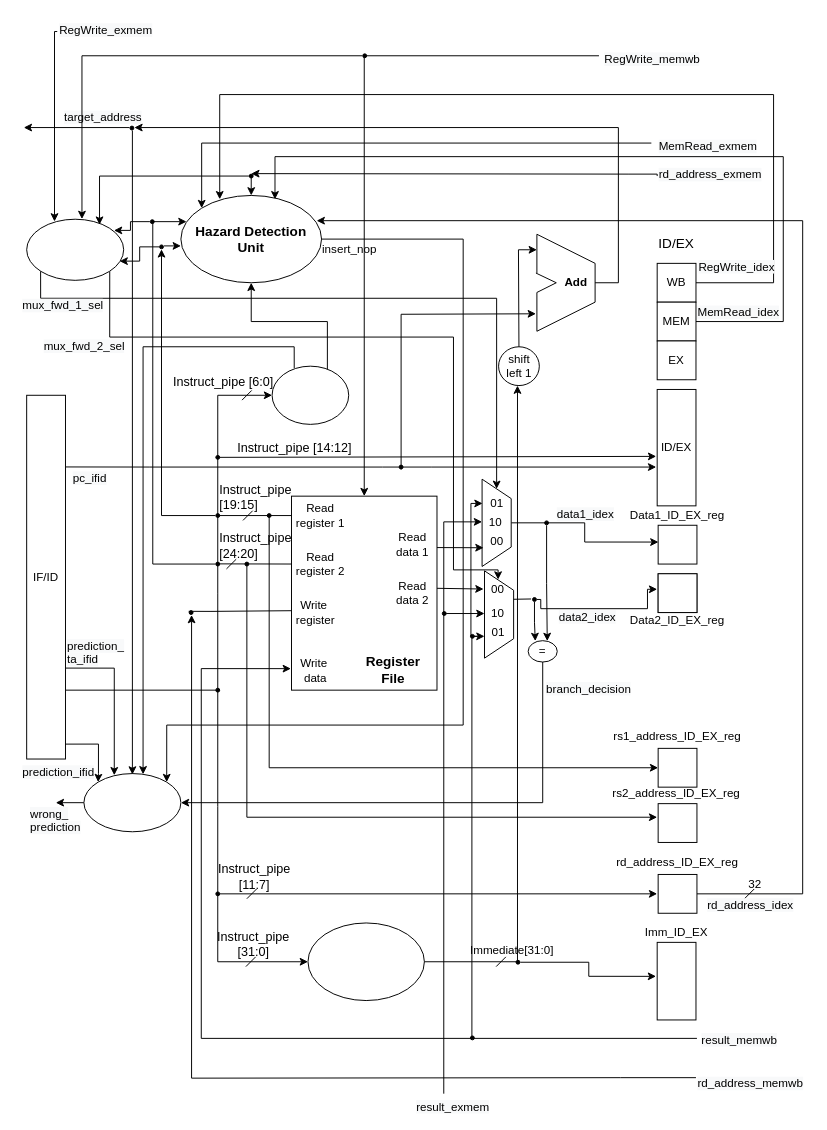
This 827x1130 diagram has some shape labels left out. Here are the shapes that lost their labels. From the top down, the centre of each, then its label:
At pixel 75 249: "forwarding unit".
At pixel 310 394: "Control".
At pixel 132 802: "prediction validate unit".
At pixel 365 961: "Immediate Generator".
